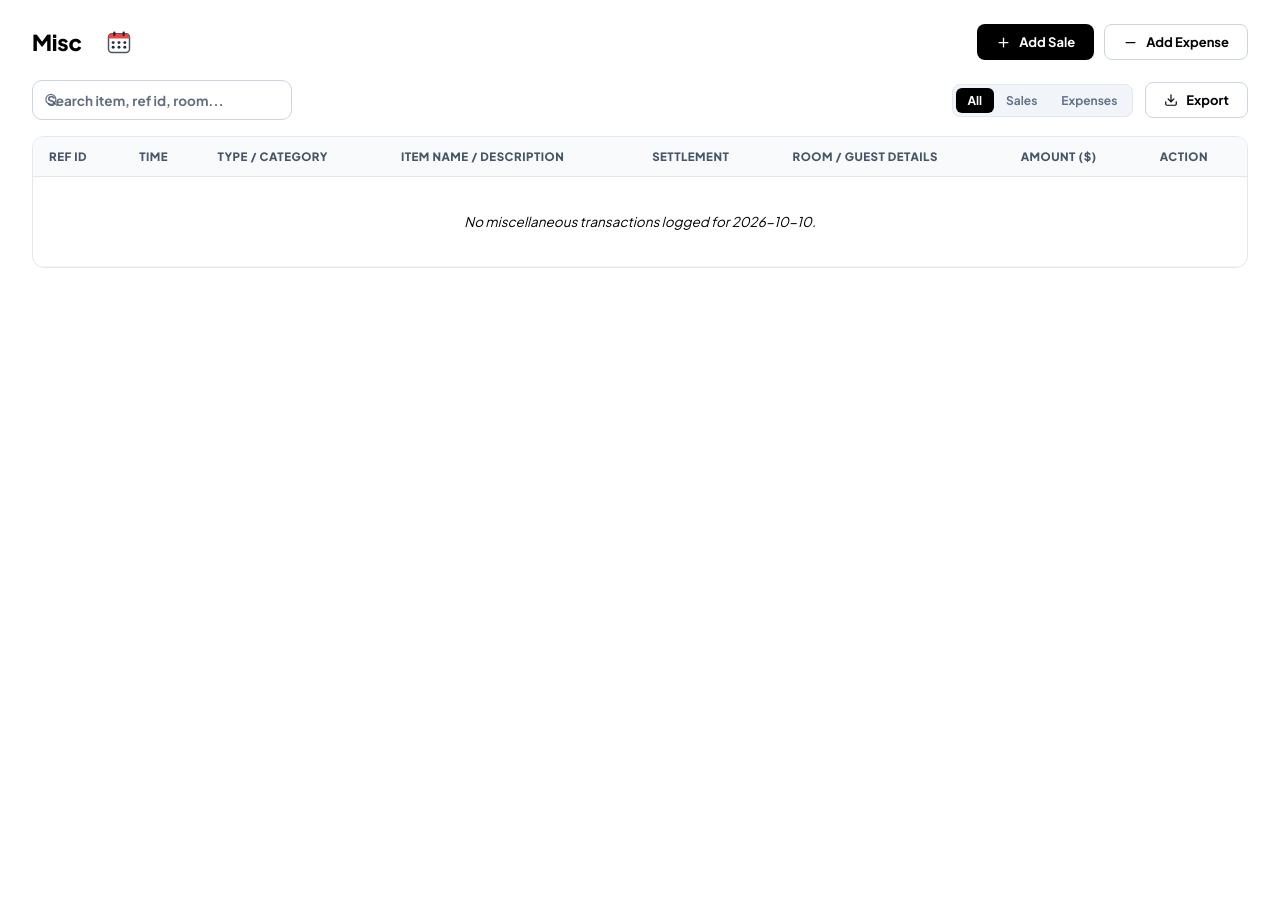
Test: Misc Operations Test Suite › 3. Adds a new Misc Expense using sequence ID (MSC-1002)
# Click Add Expense
Click the button "Add Expense".
click(1176, 42)  # box [1104,24,1248,60]
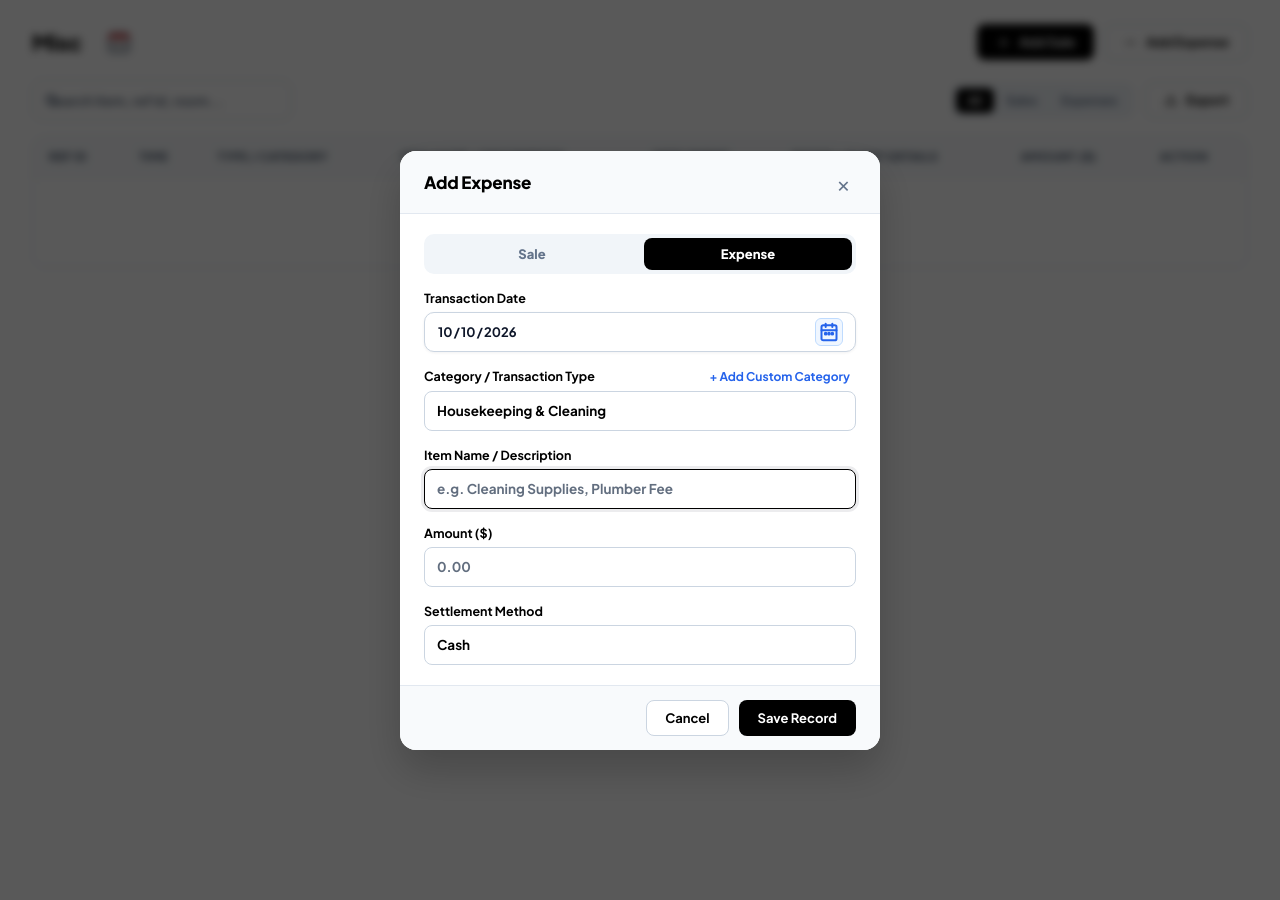
# Item Name
Type "Front Desk Copy Paper" into the field with placeholder "e.g. Cleaning Supplies, Plumber Fee".
click(640, 488); type("Front Desk Copy Paper")  # box [424,468,856,508]
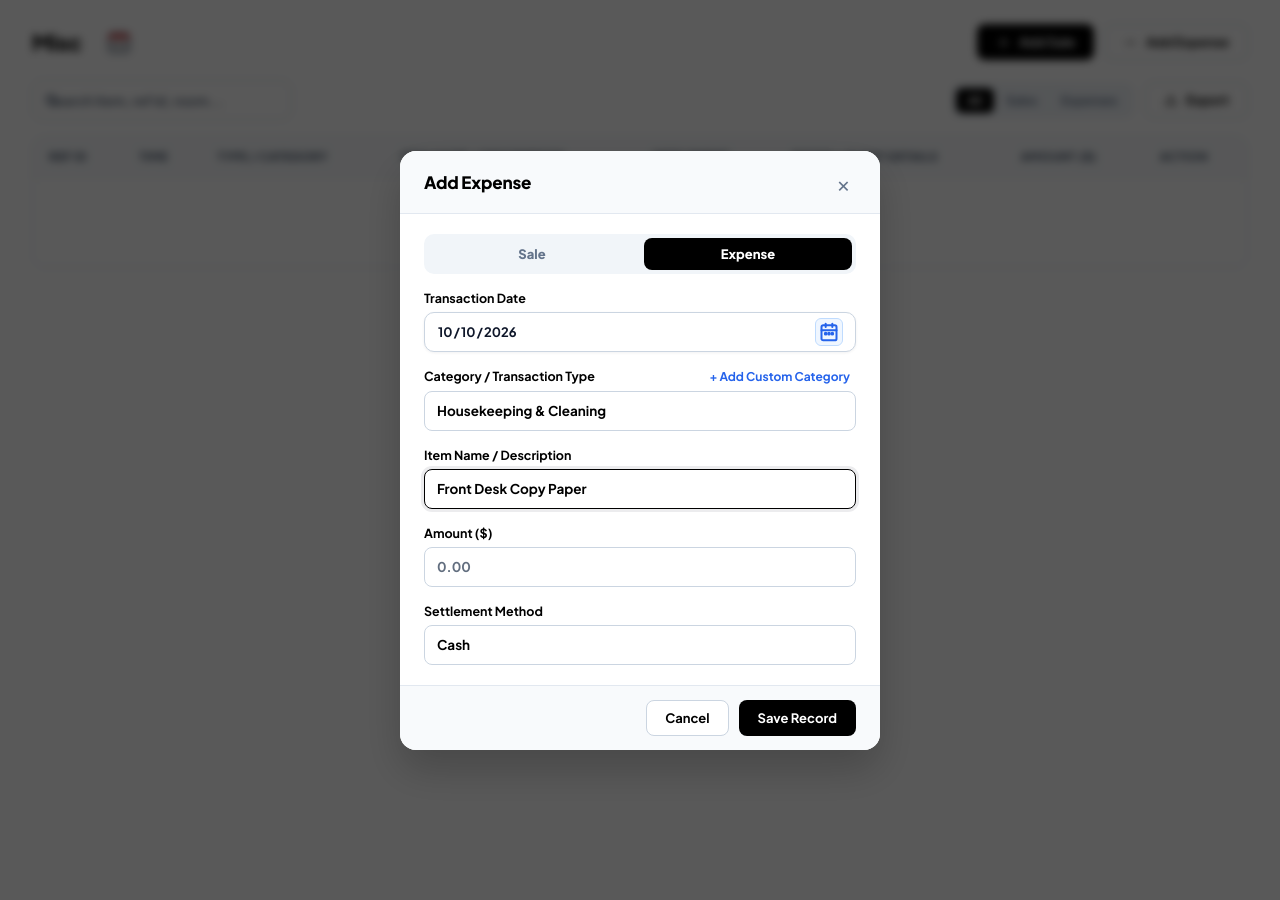
Type "18.50" into the number field with placeholder "0.00".
click(640, 566); type("18.50")  # box [424,546,856,586]
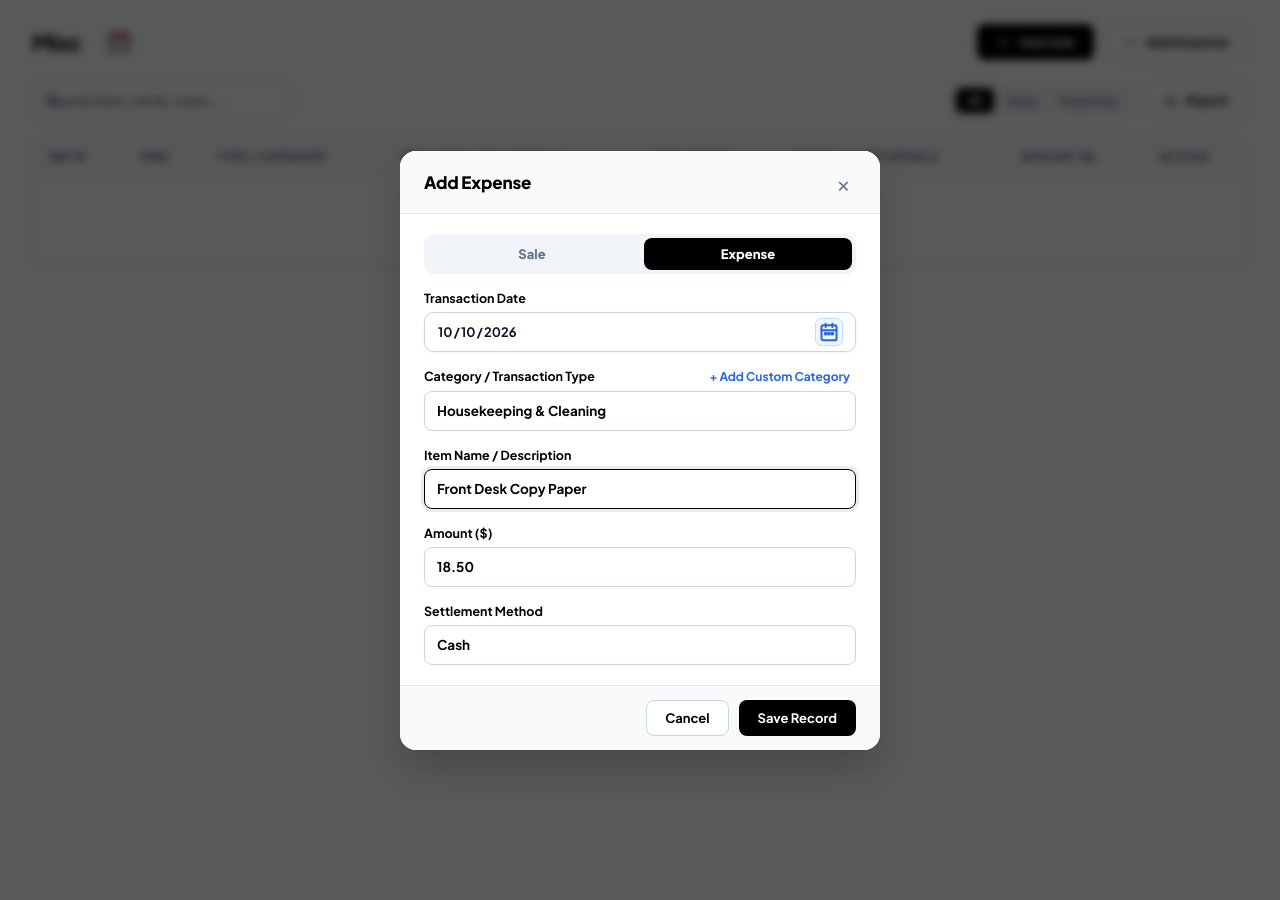
# Settle & Save
Click the button "Save Record".
click(797, 718)  # box [739,700,856,736]
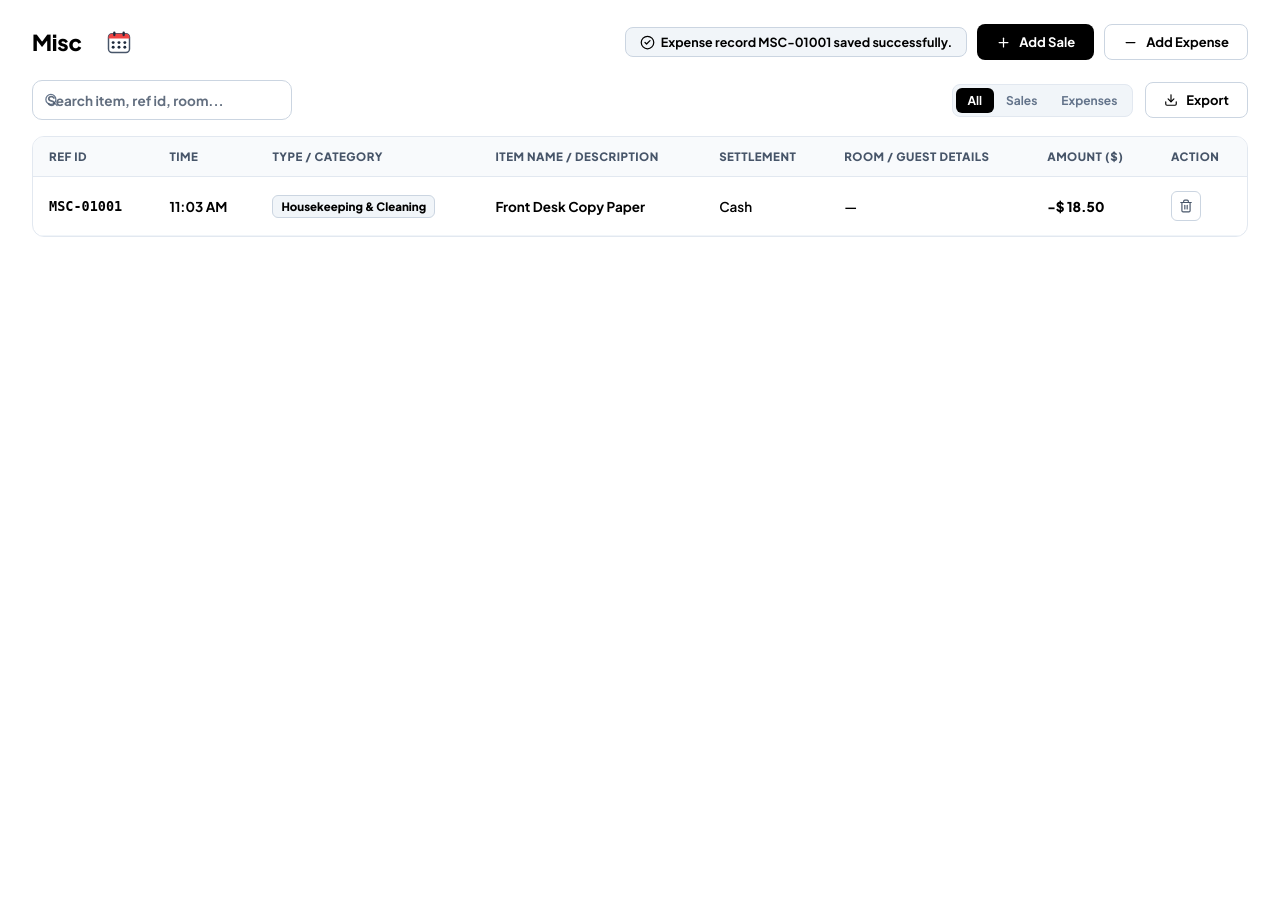
Expected: the text "Front Desk Copy Paper" is shown, [496,198,645,214]
Expected: the text "MSC-01001" is shown, [33,176,153,236]
